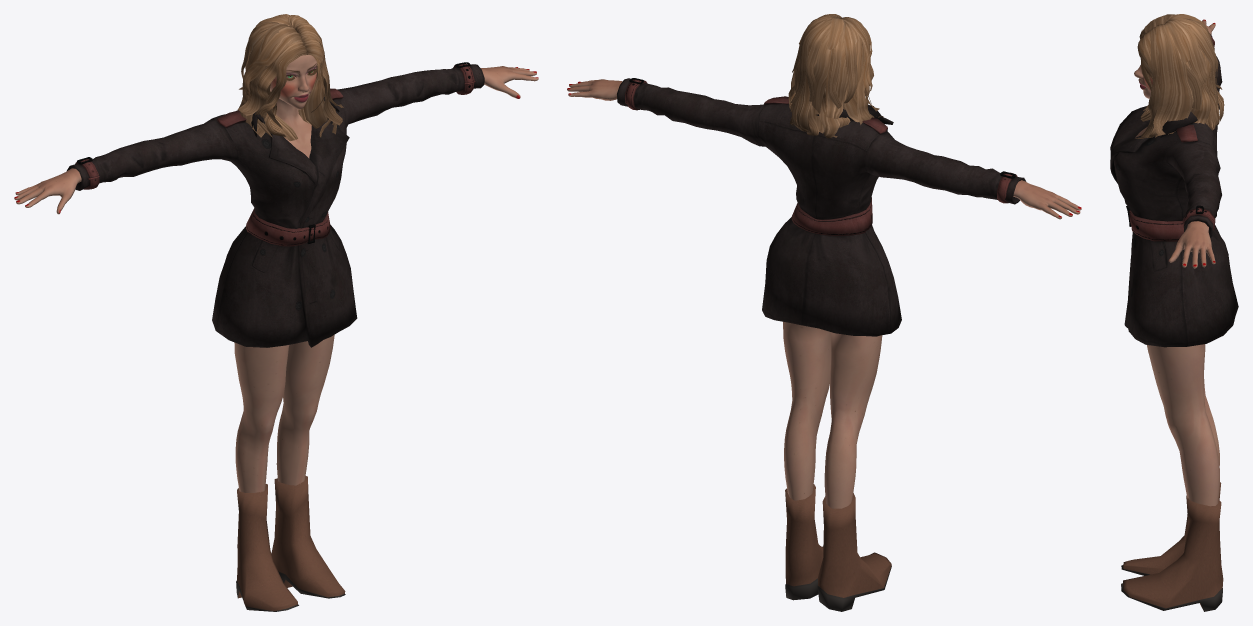
Rendered from karakter.obj.
3 views of the same model, side by side, from view 1: azimuth 30°, elevation 25°; view 2: azimuth 150°, elevation 25°; view 3: azimuth 270°, elevation 25° (orthographic).
Parts seen in each view (by area): view 1: Tops, Body, Shoes, Hair; view 2: Tops, Body, Hair, Shoes; view 3: Tops, Body, Hair, Shoes.
Boxes of the visible parts, bbox=[...] form: Tops: bbox=[67, 62, 484, 347]; Body: bbox=[14, 54, 538, 492]; Shoes: bbox=[236, 476, 345, 611]; Hair: bbox=[237, 14, 343, 140]; Tops: bbox=[617, 78, 1026, 336]; Body: bbox=[567, 79, 1081, 508]; Hair: bbox=[788, 14, 883, 138]; Shoes: bbox=[785, 484, 891, 611]; Tops: bbox=[1110, 34, 1238, 347]; Body: bbox=[1134, 19, 1219, 506]; Hair: bbox=[1135, 14, 1224, 138]; Shoes: bbox=[1121, 482, 1223, 611].
Bounding box in the file's own units: 165 × 177 × 35.56.
5 materials, 5 textured.
